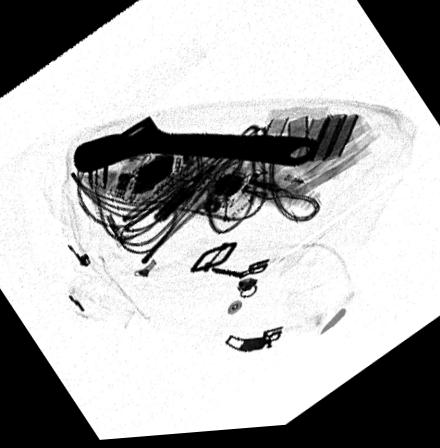Wrench: (72, 114, 322, 177)
